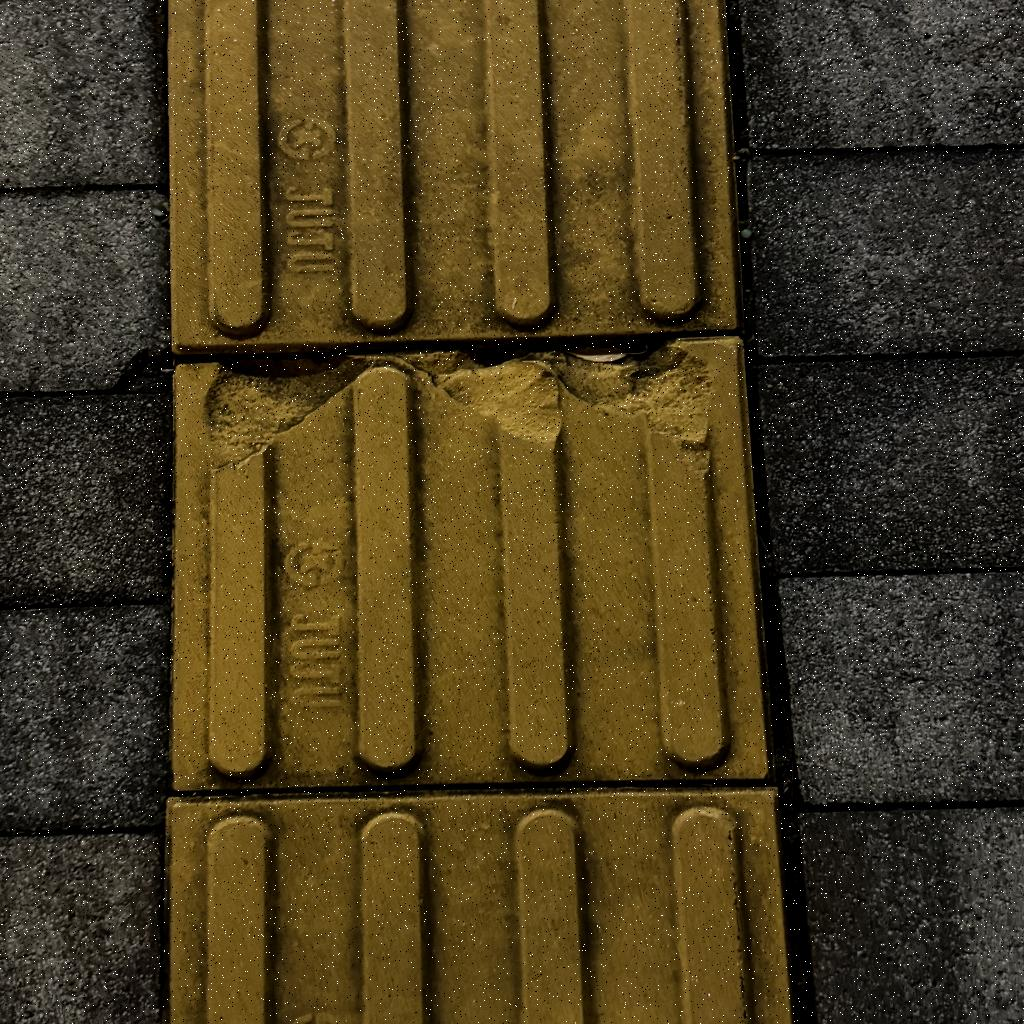Straight block broken: (167, 336, 769, 791)
